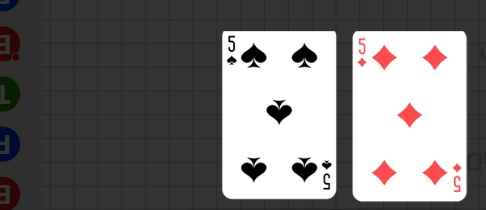5S: (320, 158, 333, 191), (226, 34, 238, 67)
